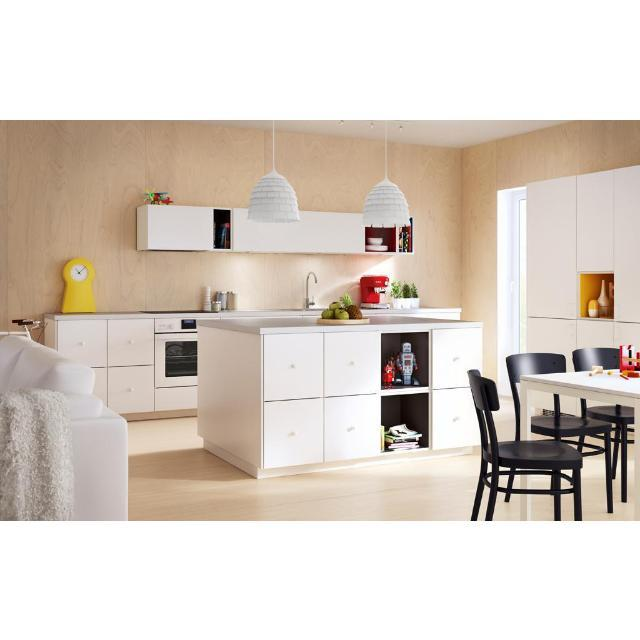chair: (505, 353, 614, 510), (468, 370, 582, 520)
clock: (61, 256, 96, 312)
couch: (0, 335, 128, 520)
dresser: (526, 165, 640, 355)
light: (249, 119, 300, 222), (362, 119, 410, 226)
plant: (390, 280, 402, 297), (410, 282, 419, 298), (402, 282, 410, 297)
shelf: (136, 204, 366, 252)
table: (520, 372, 640, 520)
vase: (598, 279, 611, 316)
